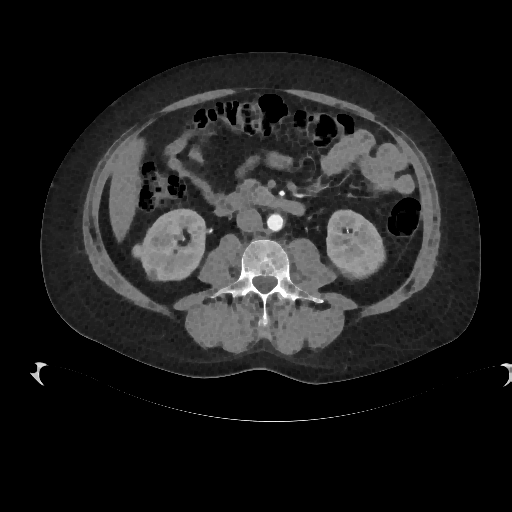Lesion: (129, 242, 144, 263)
